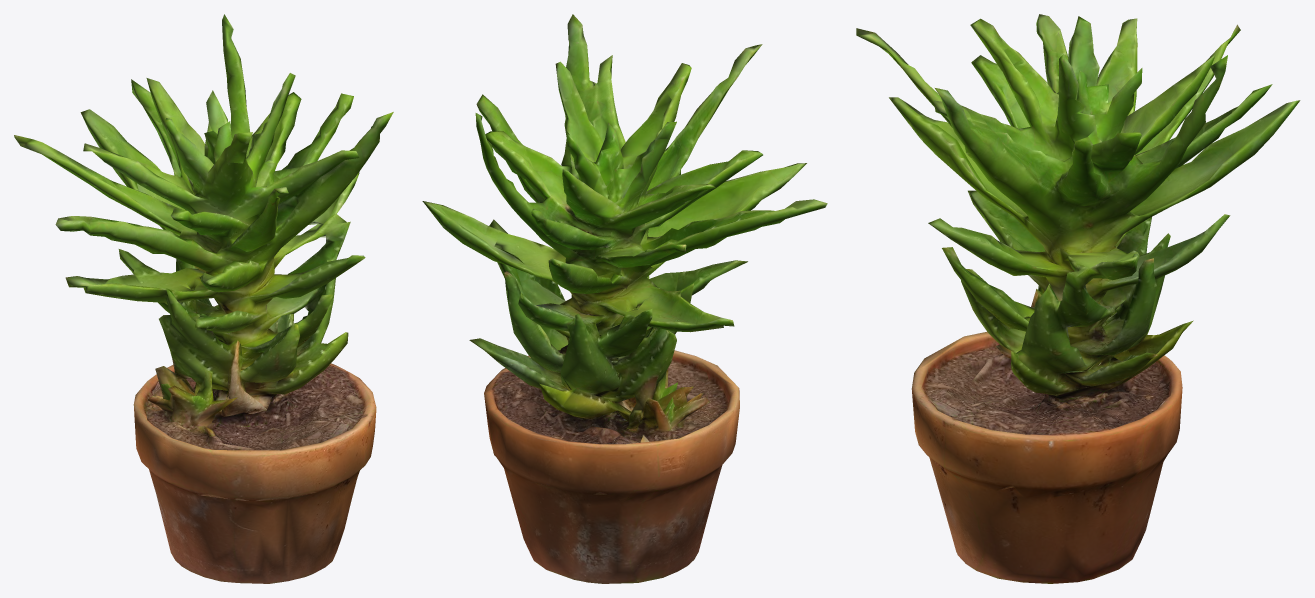
The model's file is SPIKEY_SUC.obj.
3 views of the same model, side by side, from view 1: azimuth 30°, elevation 25°; view 2: azimuth 150°, elevation 25°; view 3: azimuth 270°, elevation 25° (orthographic). The views are drawn at different scales.
Visible parts, largest first — view 1: SPIKEY_SUCCULENT_5K; view 2: SPIKEY_SUCCULENT_5K; view 3: SPIKEY_SUCCULENT_5K.
Boxes of the visible parts, x1=… form: SPIKEY_SUCCULENT_5K: x1=14, y1=14, x2=393, y2=583; SPIKEY_SUCCULENT_5K: x1=422, y1=14, x2=827, y2=583; SPIKEY_SUCCULENT_5K: x1=856, y1=14, x2=1300, y2=583.
Bounding box in the file's own units: 0.3595 × 0.4595 × 0.3568.
